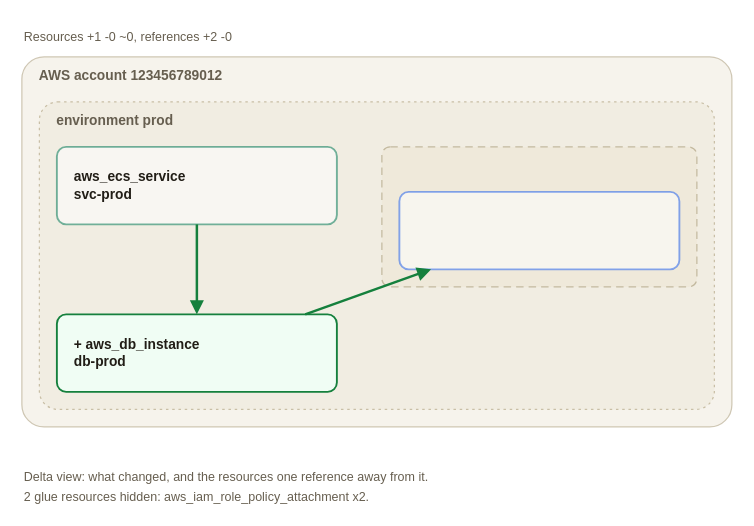
The diagram is 754 pixels wide and 526 high, and some of its shapes have lost their labels. Each missing label, with the box of its shape:
aws_subnet subnet-prod: (398, 190, 680, 270)
module terraform-aws-modules/vpc/aws 5.13.0: (381, 146, 697, 287)
